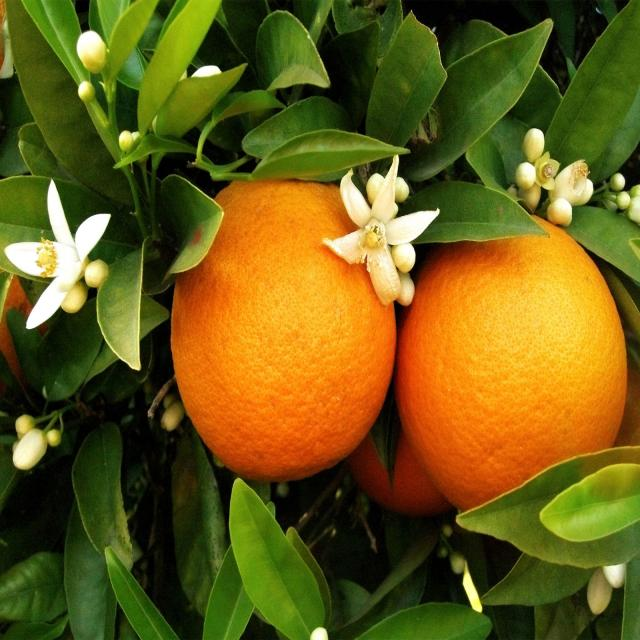orange: (397, 205, 628, 520), (169, 172, 399, 483), (338, 306, 466, 523)
